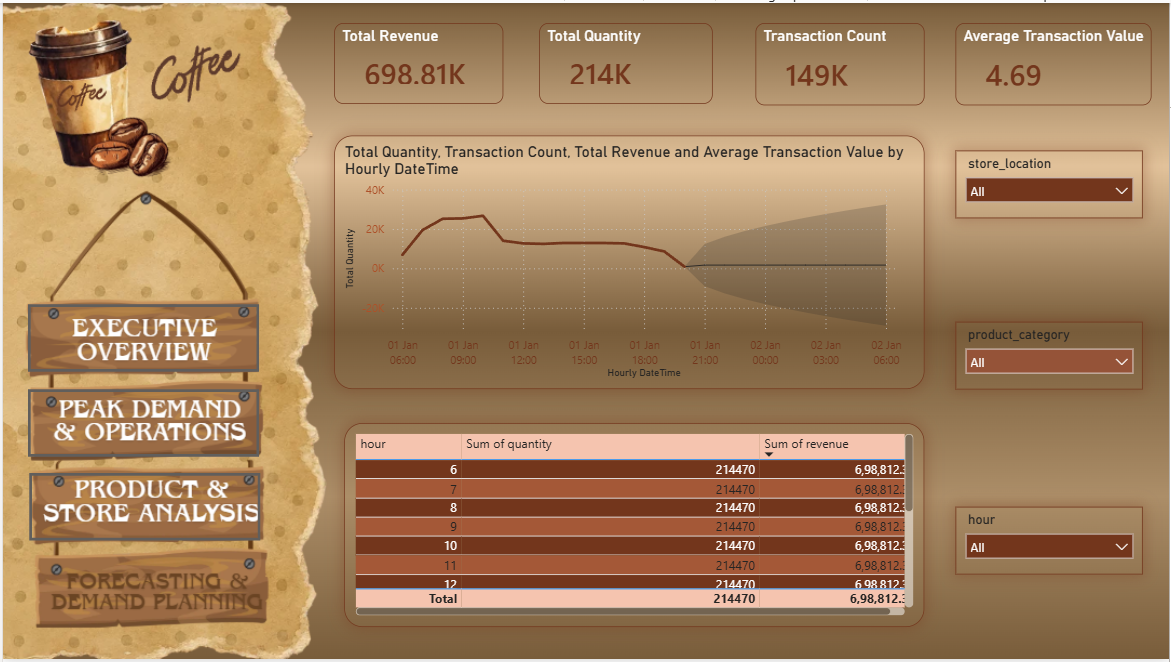

This screenshot's page, from the dashboard's own definition file:
{"tool":"powerbi","page":{"name":"Forecasting & Demand Planning page","canvas":[1280,720],"ordinal":4},"visuals":[{"type":"actionButton","box":[27.4,330.7,253.9,74.1],"z":0},{"type":"actionButton","box":[27.4,424,253.9,74.1],"z":1000},{"type":"actionButton","box":[28.8,516,253.9,74.1],"z":2000},{"type":"cardVisual","title":"Total Revenue","fields":{"Data":["transactions_clean.Total Revenue"]},"box":[363.6,22,185.2,89.2],"z":2001},{"type":"cardVisual","title":"Total Quantity","fields":{"Data":["transactions_clean.Total Quantity"]},"box":[588.7,22,190.7,89.2],"z":2002},{"type":"cardVisual","title":"Transaction Count","fields":{"Data":["transactions_clean.Transaction Count"]},"box":[826.1,22,185.2,90.6],"z":2003},{"type":"cardVisual","title":"Average Transaction Value","fields":{"Data":["transactions_clean.Average Transaction Value"]},"box":[1045.6,22,215.4,90.6],"z":2004},{"type":"slicer","fields":{"Values":["transactions_clean.store_location"]},"box":[1045.6,161.9,205.8,74.1],"z":2005},{"type":"slicer","fields":{"Values":["transactions_clean.product_category"]},"box":[1045.6,349.9,205.8,74.1],"z":2006},{"type":"slicer","fields":{"Values":["transactions_clean.hour"]},"box":[1045.6,553,205.8,74.1],"z":2007},{"type":"lineChart","fields":{"Category":["transactions_clean.Hourly DateTime"],"Y":["transactions_clean.Total Quantity"]},"box":[363.6,145.5,647.7,278.6],"z":2008},{"type":"tableEx","fields":{"Values":["transactions_clean.hour","Sum(store_summary.quantity)","Sum(store_summary.revenue)"]},"box":[374.6,461.1,636.7,223.7],"z":2009}]}

Visuals, with their boxes in screenshot pixels (x1, y1, x2, y2), scaled from the page's 1280x720 canvas onto the 1171x662 screenshot:
actionButton: 25,304,257,372
actionButton: 25,390,257,458
actionButton: 26,474,259,543
"Total Revenue" cardVisual: 333,20,502,102
"Total Quantity" cardVisual: 539,20,713,102
"Transaction Count" cardVisual: 756,20,925,104
"Average Transaction Value" cardVisual: 957,20,1154,104
slicer - transactions_clean.store_location: 957,149,1145,217
slicer - transactions_clean.product_category: 957,322,1145,390
slicer - transactions_clean.hour: 957,508,1145,577
lineChart - transactions_clean.Hourly DateTime x transactions_clean.Total Quantity: 333,134,925,390
tableEx - transactions_clean.hour x Sum(store_summary.quantity): 343,424,925,630
